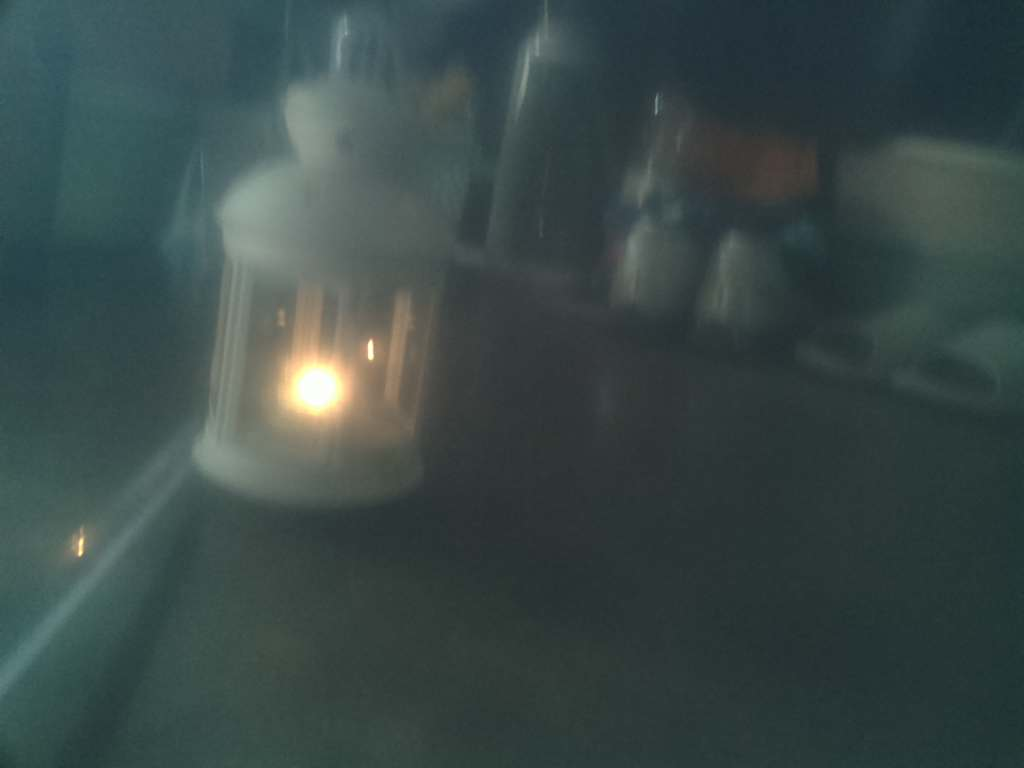fire: (262, 338, 431, 415)
